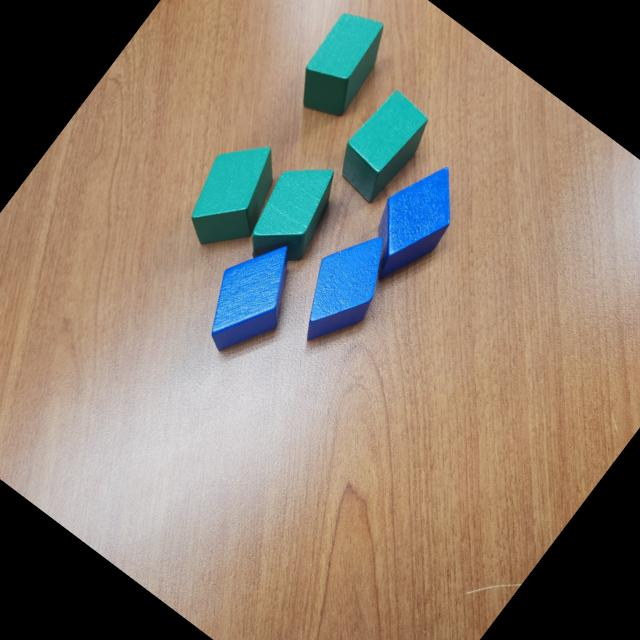blue: (183, 224, 320, 370), (346, 150, 478, 294), (278, 217, 410, 361)
green: (170, 126, 300, 264), (231, 148, 355, 282), (284, 0, 402, 128), (326, 86, 440, 208)
